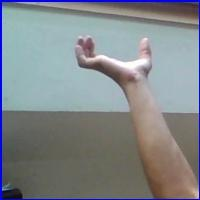space: (72, 29, 161, 90)
